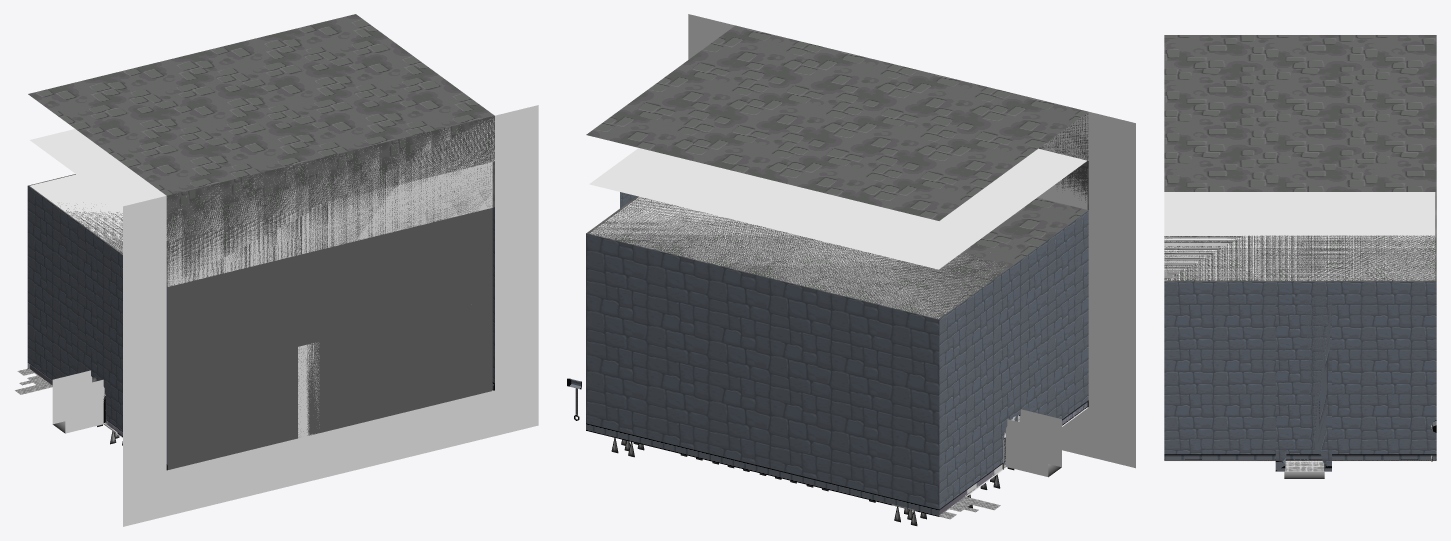
Rendered from gon_07.dae.
The picture shows the model from 3 angles, left to right: view 1: azimuth 30°, elevation 25°; view 2: azimuth 150°, elevation 25°; view 3: azimuth 270°, elevation 25°; orthographic projection. The views are drawn at different scales.
Parts seen in each view (by area): view 1: ten, a_kabemae, kuro7, a_togeue01, polySurface209_q00028_part0, polySurface409_q00012, a_togeshita, polySurface753_q00026_part0; view 2: ten, polySurface212_q00029_part0, a_togeue01, polySurface209_q00028_part0, kuro7, polySurface409_q00012, polySurface212_q00029_part1; view 3: ten, polySurface754_q00030_part0, a_togeue01, polySurface161_q00015_part0, polySurface161_q00007_part0, polySurface754_q00030_part1, polySurface754_q00017_part0, polySurface753_q00027, polySurface757_q00011, polySurface208_q00032.
Boxes of the visible parts, bbox=[...] form: ten: bbox=[28, 14, 494, 286]; a_kabemae: bbox=[167, 208, 492, 469]; kuro7: bbox=[123, 105, 538, 526]; a_togeue01: bbox=[30, 129, 492, 286]; polySurface209_q00028_part0: bbox=[27, 186, 122, 431]; polySurface409_q00012: bbox=[52, 370, 104, 433]; a_togeshita: bbox=[106, 342, 319, 437]; polySurface753_q00026_part0: bbox=[81, 397, 103, 429]; ten: bbox=[586, 25, 1088, 319]; polySurface212_q00029_part0: bbox=[586, 233, 939, 509]; a_togeue01: bbox=[589, 148, 1087, 318]; polySurface209_q00028_part0: bbox=[939, 210, 1088, 508]; kuro7: bbox=[688, 14, 1135, 468]; polySurface409_q00012: bbox=[1006, 409, 1061, 476]; polySurface212_q00029_part1: bbox=[586, 423, 939, 516]; ten: bbox=[1164, 35, 1436, 281]; polySurface754_q00030_part0: bbox=[1164, 281, 1436, 454]; a_togeue01: bbox=[1164, 192, 1435, 280]; polySurface161_q00015_part0: bbox=[1275, 286, 1331, 464]; polySurface161_q00007_part0: bbox=[1276, 297, 1331, 464]; polySurface754_q00030_part1: bbox=[1164, 454, 1436, 460]; polySurface754_q00017_part0: bbox=[1275, 281, 1331, 454]; polySurface753_q00027: bbox=[1285, 461, 1324, 471]; polySurface757_q00011: bbox=[1284, 460, 1324, 478]; polySurface208_q00032: bbox=[1164, 460, 1436, 461].
Bounding box in the file's own units: 95 × 70 × 55.
